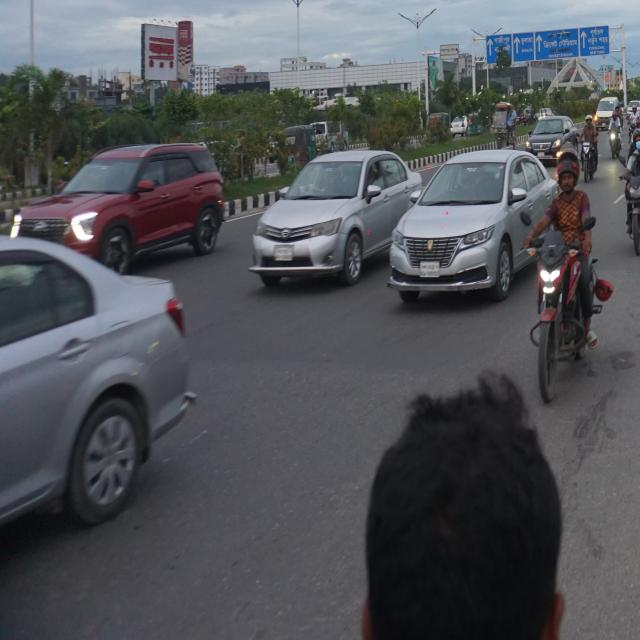car: (372, 126, 559, 312), (244, 111, 409, 312)
motorbike: (519, 210, 602, 414), (617, 141, 640, 279), (578, 130, 601, 185)
